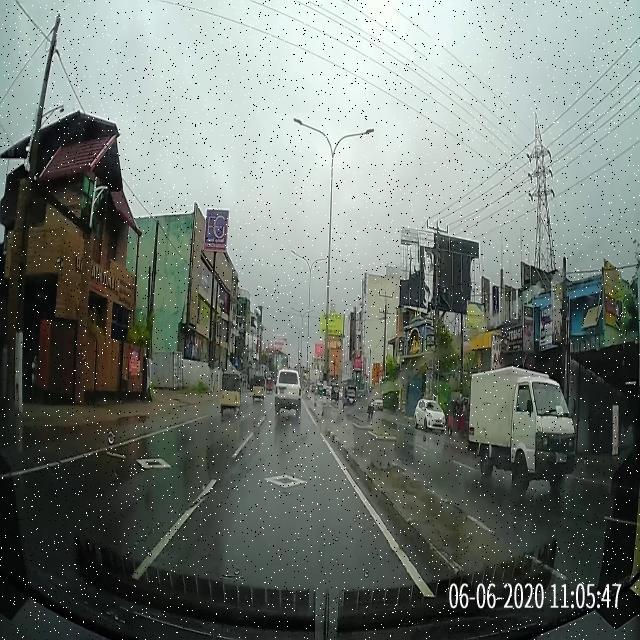diamond: (185, 455, 379, 514)
